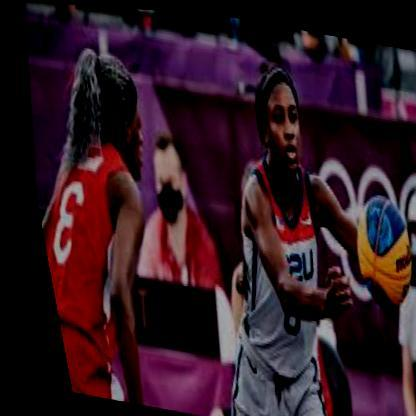basketball: (332, 184, 416, 309)
